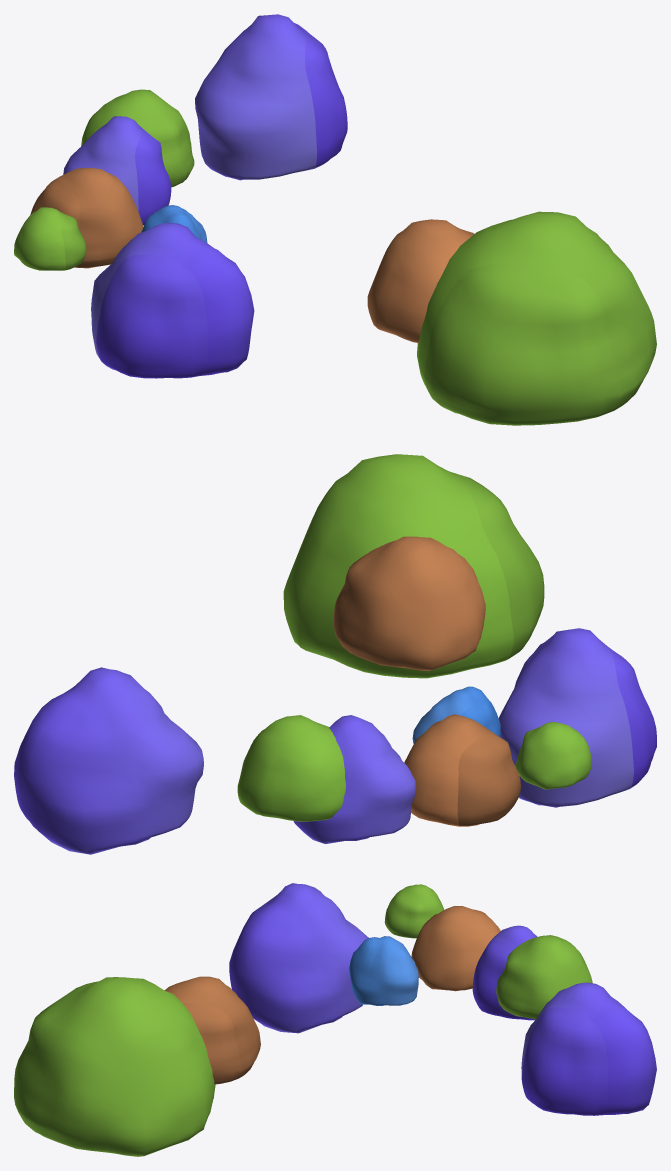
Rendered from Mountains.glb.
3 views of the same model, one above another, from view 1: azimuth 30°, elevation 25°; view 2: azimuth 150°, elevation 25°; view 3: azimuth 270°, elevation 25° (orthographic). The views are drawn at different scales.
Parts seen in each view (by area): view 1: Cube.002; view 2: Cube.002; view 3: Cube.002.
Boxes of the visible parts, left/top/right/bottom form: Cube.002: left=14, top=14, right=656, bottom=425; Cube.002: left=14, top=454, right=656, bottom=854; Cube.002: left=14, top=883, right=656, bottom=1156.
Size of the model in its own units: 326 by 115 by 478.
1 material, 1 textured.
